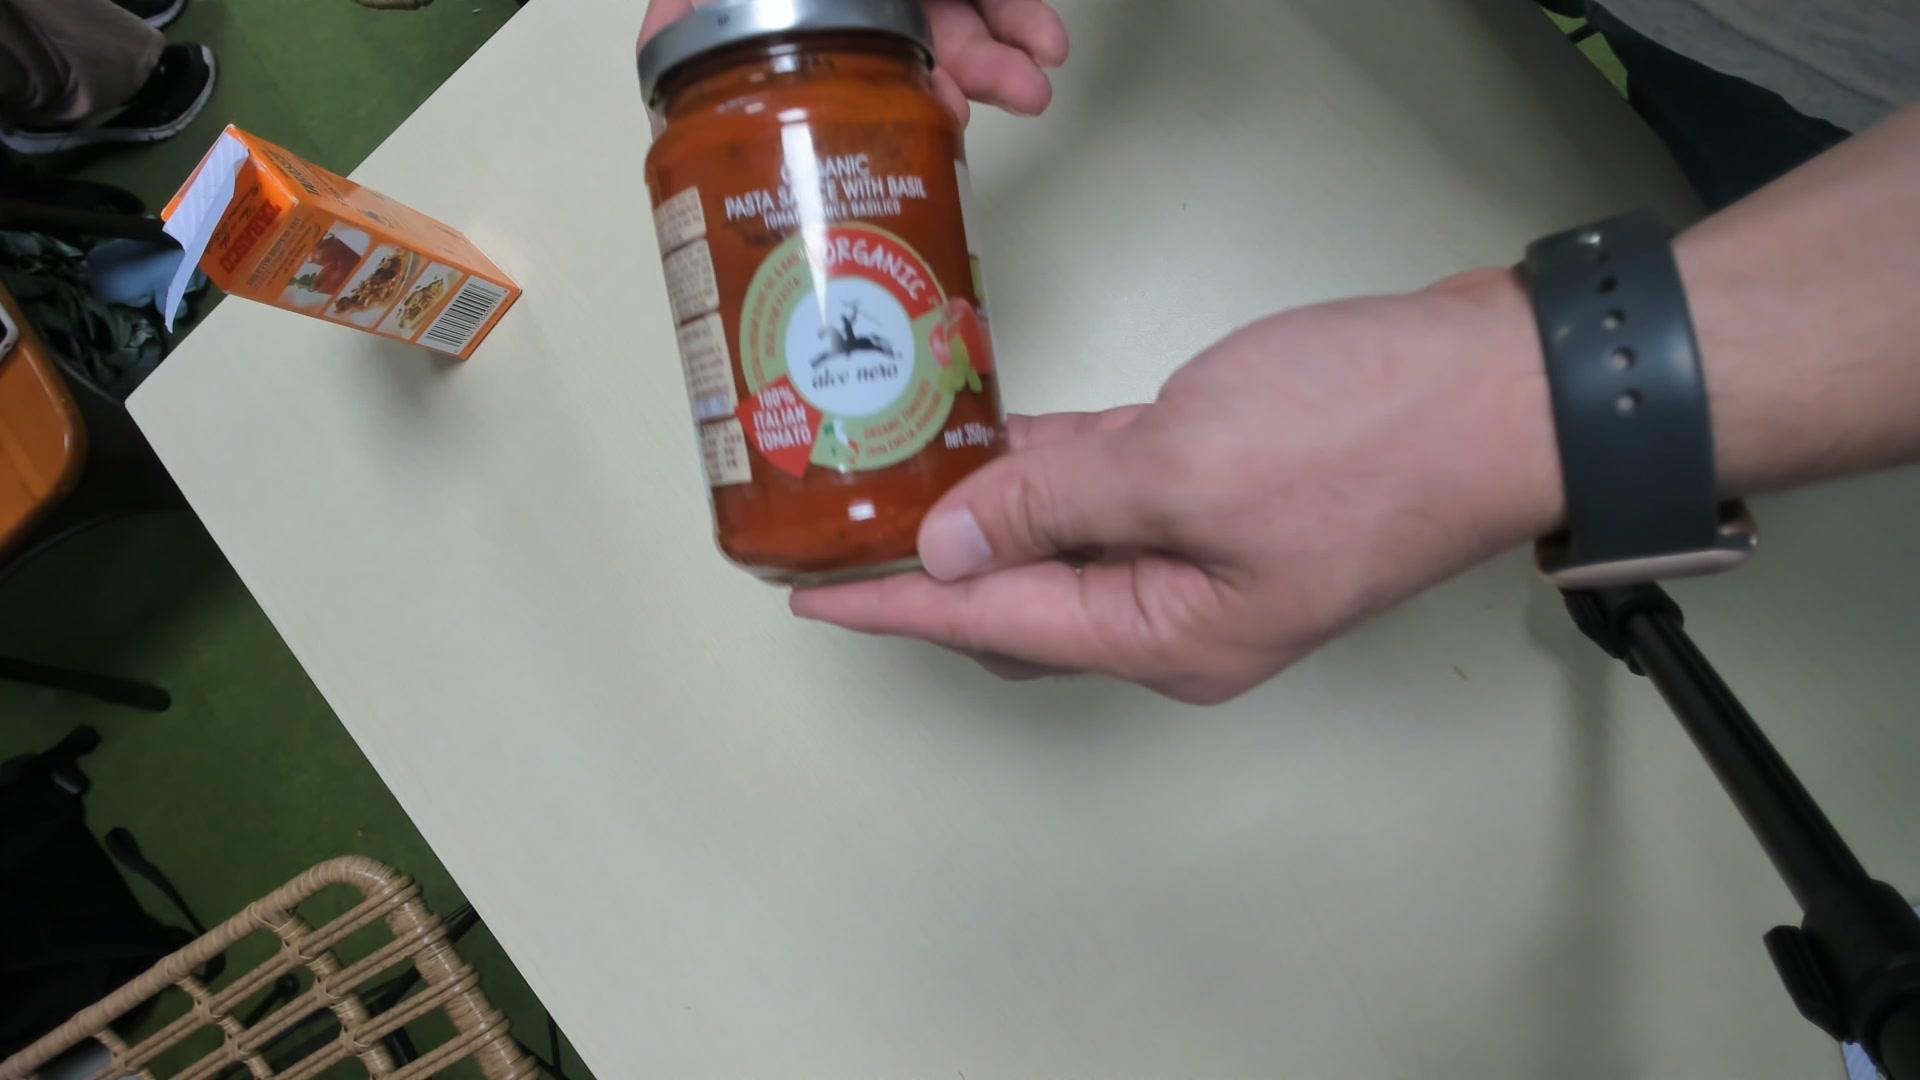PastaSauce_300-399g_NonHalal_NonHealthy: (636, 1, 1011, 596)
